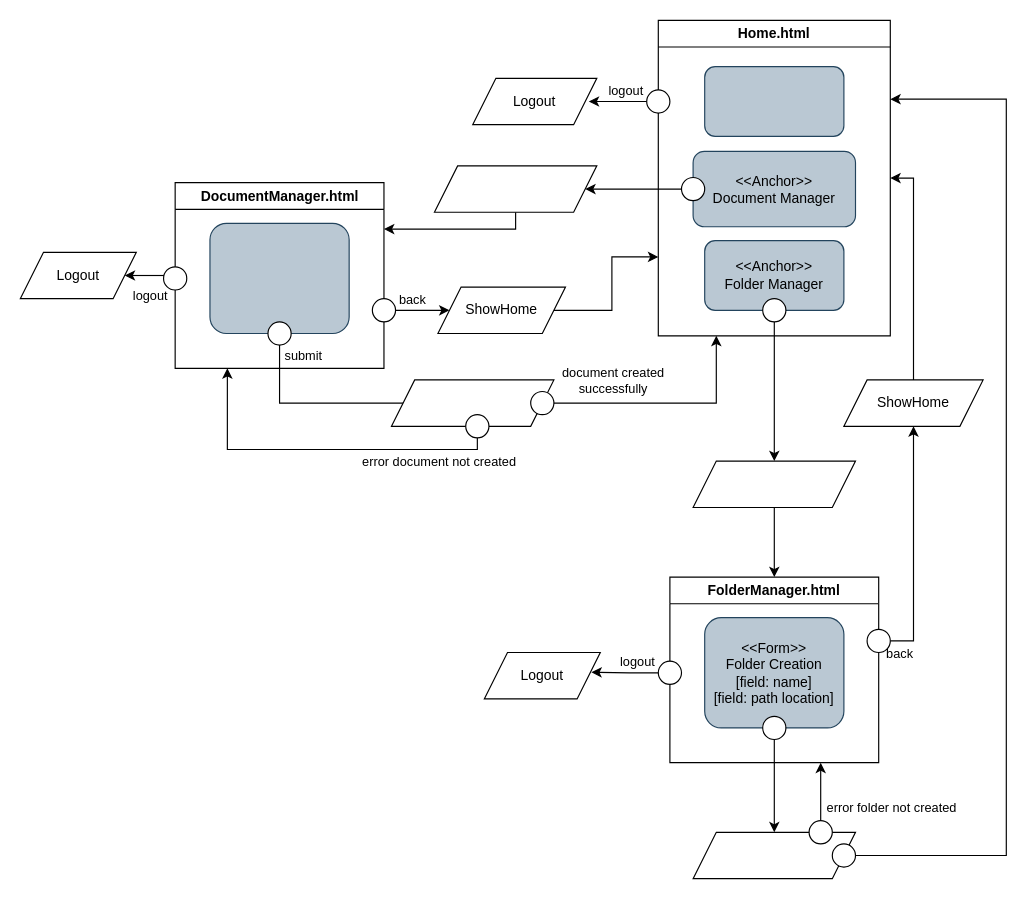
Some shapes in this 1036 by 899 pixel diagram are drawn without their labels. The shapes that lost their labels are listed below. From the top down, each one's box as (x1, y1, x2, y2) in pixels, then its label:
(704, 66, 844, 136): <<Anchor>> Folders tree
(433, 165, 597, 212): DocumentManager
(209, 222, 349, 334): <<Form>> Document Creation [field: name] [field: path location] [field: summary]
(390, 379, 554, 426): CreateDocument
(692, 460, 855, 507): FolderManager
(692, 831, 855, 879): CreateFolder
